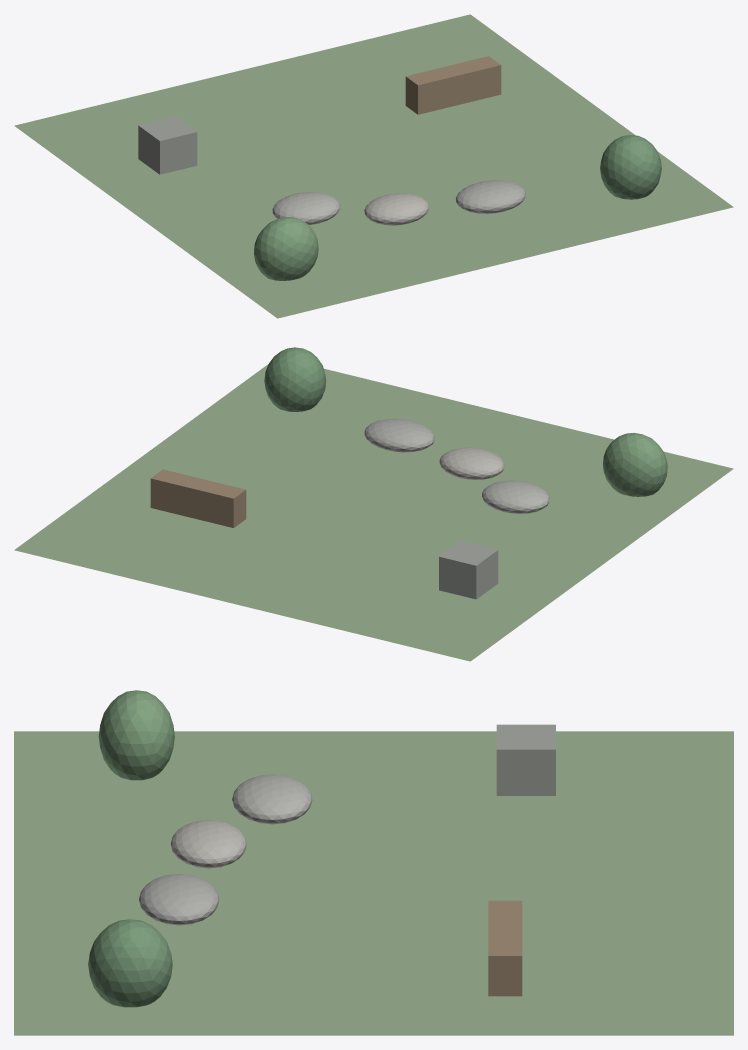
The model's file is obstacle-park.glb.
3 renders of one model, top to bottom at view 1: azimuth 30°, elevation 25°; view 2: azimuth 150°, elevation 25°; view 3: azimuth 270°, elevation 25°, orthographic. The views are drawn at different scales.
Visible parts, largest first — view 1: Ground, Obstacle_Log_A, Decor_Bush_B, Decor_Bush_A, Obstacle_Block_A, Obstacle_StepStone_03, Obstacle_StepStone_02, Obstacle_StepStone_01; view 2: Ground, Obstacle_Log_A, Decor_Bush_B, Decor_Bush_A, Obstacle_Block_A, Obstacle_StepStone_03, Obstacle_StepStone_01, Obstacle_StepStone_02; view 3: Ground, Decor_Bush_A, Decor_Bush_B, Obstacle_Block_A, Obstacle_Log_A, Obstacle_StepStone_03, Obstacle_StepStone_01, Obstacle_StepStone_02.
Part boxes in pixels (bbox=[...]): Ground: bbox=[14, 14, 733, 318]; Obstacle_Log_A: bbox=[405, 56, 501, 114]; Decor_Bush_B: bbox=[254, 217, 318, 280]; Decor_Bush_A: bbox=[600, 135, 661, 199]; Obstacle_Block_A: bbox=[138, 116, 197, 174]; Obstacle_StepStone_03: bbox=[455, 180, 525, 213]; Obstacle_StepStone_02: bbox=[364, 193, 429, 225]; Obstacle_StepStone_01: bbox=[272, 192, 340, 224]; Ground: bbox=[14, 364, 733, 661]; Obstacle_Log_A: bbox=[150, 469, 246, 527]; Decor_Bush_B: bbox=[603, 433, 667, 496]; Decor_Bush_A: bbox=[264, 347, 326, 411]; Obstacle_Block_A: bbox=[439, 541, 498, 599]; Obstacle_StepStone_03: bbox=[364, 418, 434, 452]; Obstacle_StepStone_01: bbox=[482, 480, 549, 513]; Obstacle_StepStone_02: bbox=[439, 447, 504, 479]; Ground: bbox=[14, 731, 733, 1035]; Decor_Bush_A: bbox=[88, 919, 172, 1007]; Decor_Bush_B: bbox=[98, 690, 174, 780]; Obstacle_Block_A: bbox=[496, 724, 555, 795]; Obstacle_Log_A: bbox=[488, 900, 522, 996]; Obstacle_StepStone_03: bbox=[139, 873, 219, 925]; Obstacle_StepStone_01: bbox=[232, 774, 312, 824]; Obstacle_StepStone_02: bbox=[170, 820, 246, 868].
Size of the model in its own units: 3.4 by 0.44 by 3.4.
